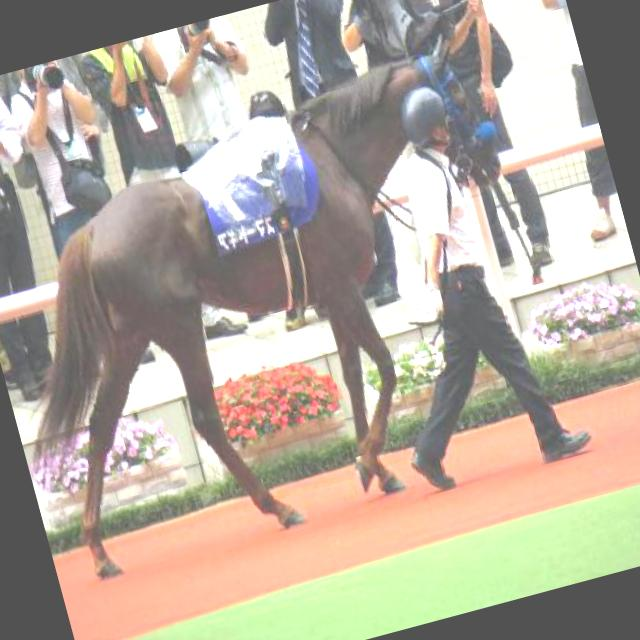Person: (316, 65, 598, 499), (76, 29, 250, 355), (257, 0, 422, 317), (414, 0, 559, 283), (509, 0, 629, 246), (0, 75, 87, 411), (0, 52, 134, 266), (150, 12, 264, 153), (326, 0, 492, 81)
